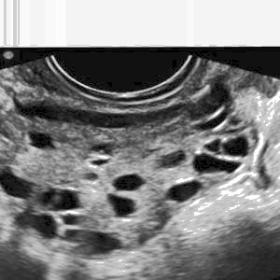PCOS: (66, 226, 126, 256), (193, 102, 239, 136), (196, 149, 238, 174), (168, 178, 205, 205), (5, 170, 38, 199), (21, 207, 54, 236), (46, 184, 76, 213), (105, 192, 139, 216), (114, 172, 148, 192), (231, 128, 252, 160), (29, 129, 54, 151), (162, 154, 192, 170), (91, 142, 114, 156), (210, 136, 224, 156)
